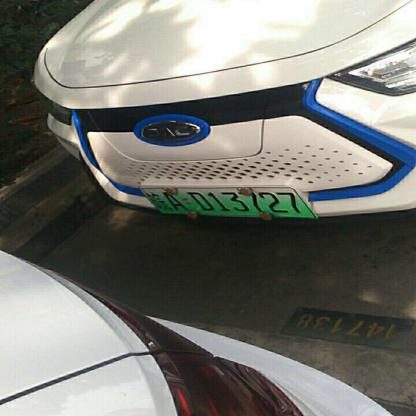lp: (140, 188, 315, 216)
